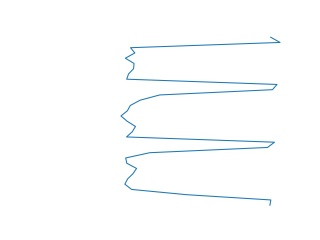majorRiverChannelBar: (119, 35, 281, 206)
